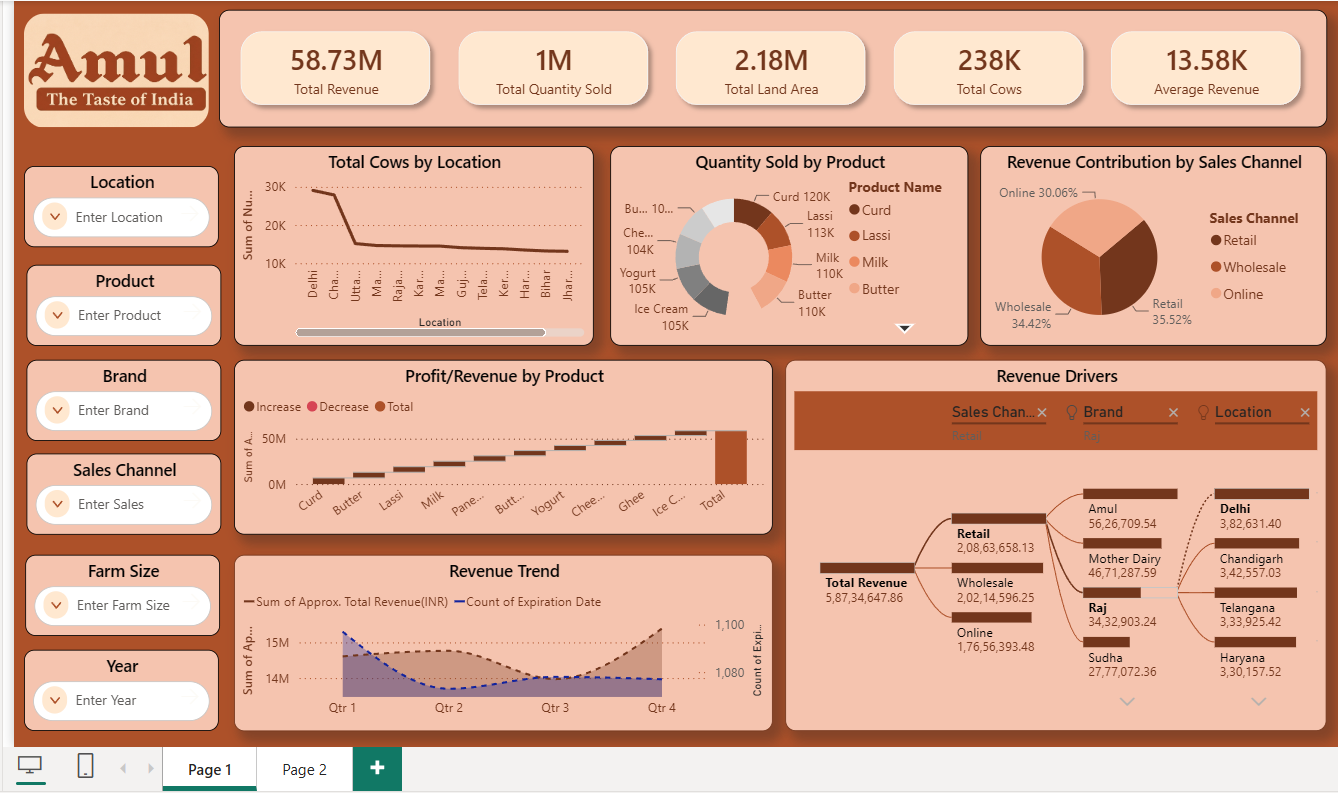

Layout of this report page (visuals, bound fields, positions):
{"tool":"powerbi","page":{"name":"Page 1","canvas":[1280,720],"ordinal":0},"visuals":[{"type":"cardVisual","fields":{"Data":["dairy_dataset.Total Revenue","dairy_dataset.Total Quantity Sold","dairy_dataset.Total Land Area","dairy_dataset.Total Cows","dairy_dataset.Average Revenue"]},"box":[198.2,8.8,1069.4,113.6],"z":0},{"type":"lineChart","title":"Total Cows by Location","fields":{"Category":["dairy_dataset.Location"],"Y":["Sum(dairy_dataset.Number of Cows)"]},"box":[212.1,140.1,347.2,193.2],"z":1000},{"type":"donutChart","title":"Quantity Sold by Product","fields":{"Category":["dairy_dataset.Product Name"],"Y":["Sum(dairy_dataset.Quantity Sold (liters/kg))"]},"box":[575.7,140.1,345.9,193.2],"z":2000},{"type":"pieChart","title":"Revenue Contribution by Sales Channel","fields":{"Category":["dairy_dataset.Sales Channel"],"Y":["Sum(dairy_dataset.Approx. Total Revenue(INR))"]},"box":[933,140.1,334.6,193.2],"z":3000},{"type":"waterfallChart","title":"Profit/Revenue by Product","fields":{"Category":["dairy_dataset.Product Name"],"Y":["Sum(dairy_dataset.Approx. Total Revenue(INR))"]},"box":[212.1,345.9,520.2,169.2],"z":4000},{"type":"areaChart","title":"Revenue Trend","fields":{"Y":["Sum(dairy_dataset.Approx. Total Revenue(INR))"],"Y2":["CountNonNull(dairy_dataset.Expiration Date)"],"Category":["dairy_dataset.Production Date.Variation.Date Hierarchy.Quarter"]},"box":[212.1,534.1,520.2,170.4],"z":5000},{"type":"decompositionTreeVisual","title":"Revenue Drivers","fields":{"Analyze":["dairy_dataset.Total Revenue"],"ExplainBy":["dairy_dataset.Sales Channel","dairy_dataset.Brand","dairy_dataset.Location","dairy_dataset.Product Name"]},"box":[744.9,345.9,522.7,358.6],"z":6000},{"type":"textSlicer","title":"Location","fields":{"Values":["dairy_dataset.Location"]},"box":[10.1,159.1,188.1,78.3],"z":7000},{"type":"textSlicer","title":"Product","fields":{"Values":["dairy_dataset.Product Name"]},"box":[12.6,255,188.1,78.3],"z":8000},{"type":"textSlicer","title":"Brand","fields":{"Values":["dairy_dataset.Brand"]},"box":[12.6,345.9,188.1,78.3],"z":9000},{"type":"textSlicer","title":"Sales Channel","fields":{"Values":["dairy_dataset.Sales Channel"]},"box":[12.6,436.9,188.1,78.3],"z":10000},{"type":"textSlicer","title":"Farm Size","fields":{"Values":["dairy_dataset.Farm Size"]},"box":[11.4,534.1,188.1,78.3],"z":11000},{"type":"textSlicer","title":"Year","fields":{"Values":["dairy_dataset.Date.Variation.Date Hierarchy.Year"]},"box":[10.1,626.2,188.1,78.3],"z":12000},{"type":"image","box":[10,11.7,178.3,110],"z":13000}]}

Visuals, with their boxes in screenshot pixels (x1, y1, x2, y2):
cardVisual - dairy_dataset.Total Revenue x dairy_dataset.Total Quantity Sold: crop(218, 9, 1321, 126)
"Total Cows by Location" lineChart: crop(233, 144, 590, 344)
"Quantity Sold by Product" donutChart: crop(607, 144, 964, 344)
"Revenue Contribution by Sales Channel" pieChart: crop(976, 144, 1321, 344)
"Profit/Revenue by Product" waterfallChart: crop(233, 357, 769, 531)
"Revenue Trend" areaChart: crop(233, 551, 769, 726)
"Revenue Drivers" decompositionTreeVisual: crop(782, 357, 1321, 726)
"Location" textSlicer: crop(24, 164, 218, 245)
"Product" textSlicer: crop(27, 263, 221, 344)
"Brand" textSlicer: crop(27, 357, 221, 437)
"Sales Channel" textSlicer: crop(27, 450, 221, 531)
"Farm Size" textSlicer: crop(26, 551, 220, 631)
"Year" textSlicer: crop(24, 646, 218, 726)
image: crop(24, 12, 208, 125)
